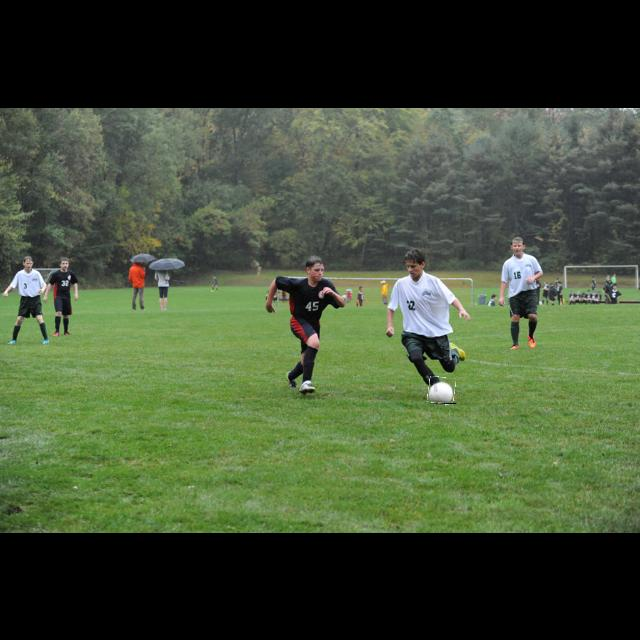Football: (428, 378, 456, 404)
